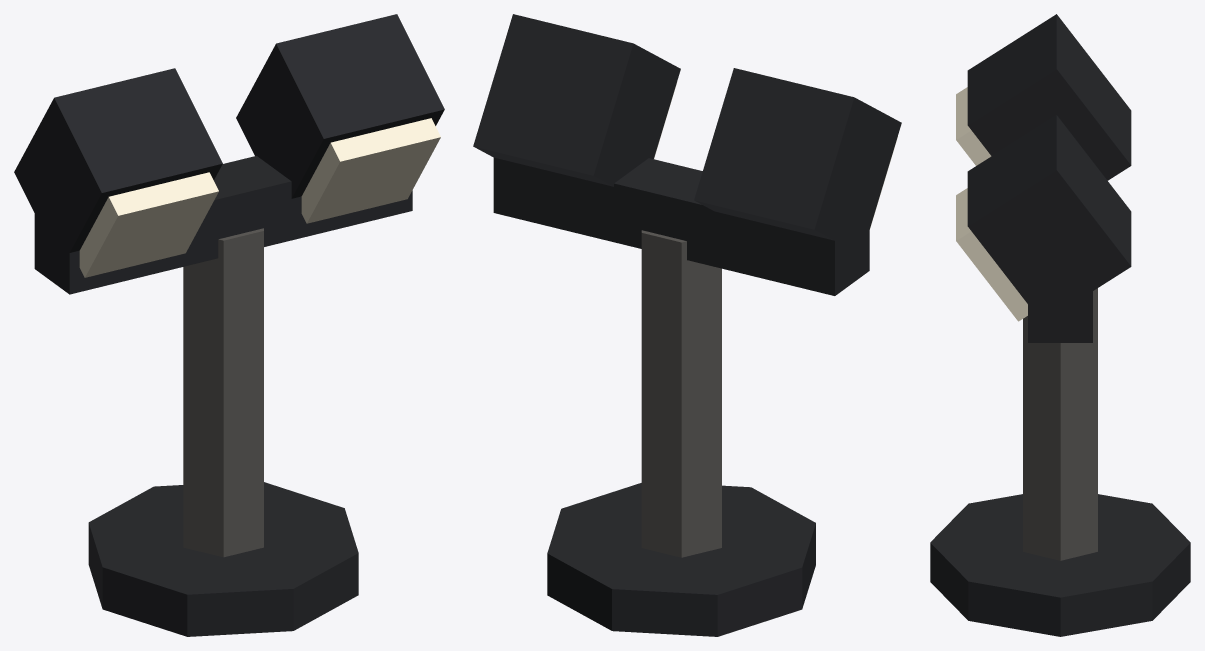
Rendered from industrial_floodlight.glb.
3 renders of one model, left to right at view 1: azimuth 30°, elevation 25°; view 2: azimuth 150°, elevation 25°; view 3: azimuth 270°, elevation 25°, orthographic. The views are drawn at different scales.
Size of the model in its own units: 0.17 by 0.2489 by 0.12.
